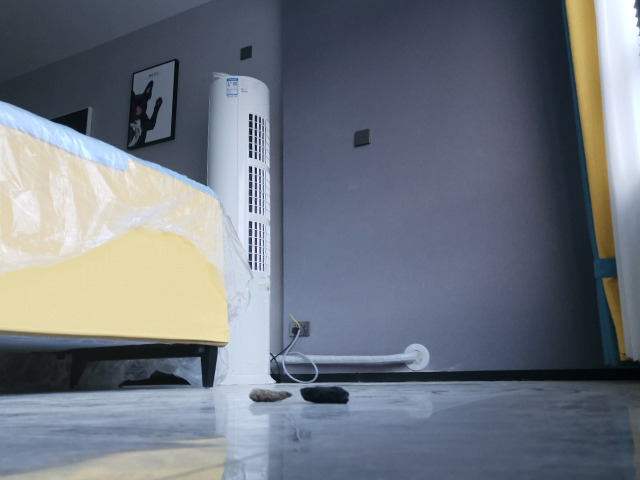curtain: (559, 1, 640, 372)
feces: (299, 384, 352, 406), (248, 387, 294, 405)
sofa: (1, 99, 231, 390)
wire: (270, 313, 321, 385)
